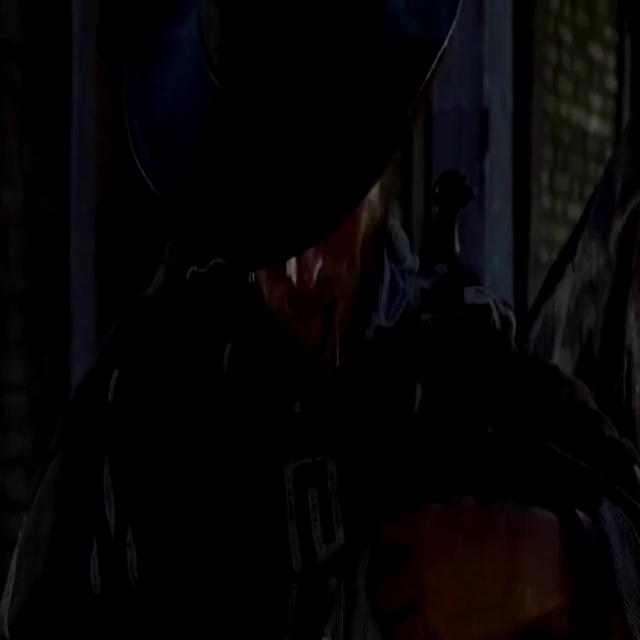Smooking: (321, 307, 346, 400)
